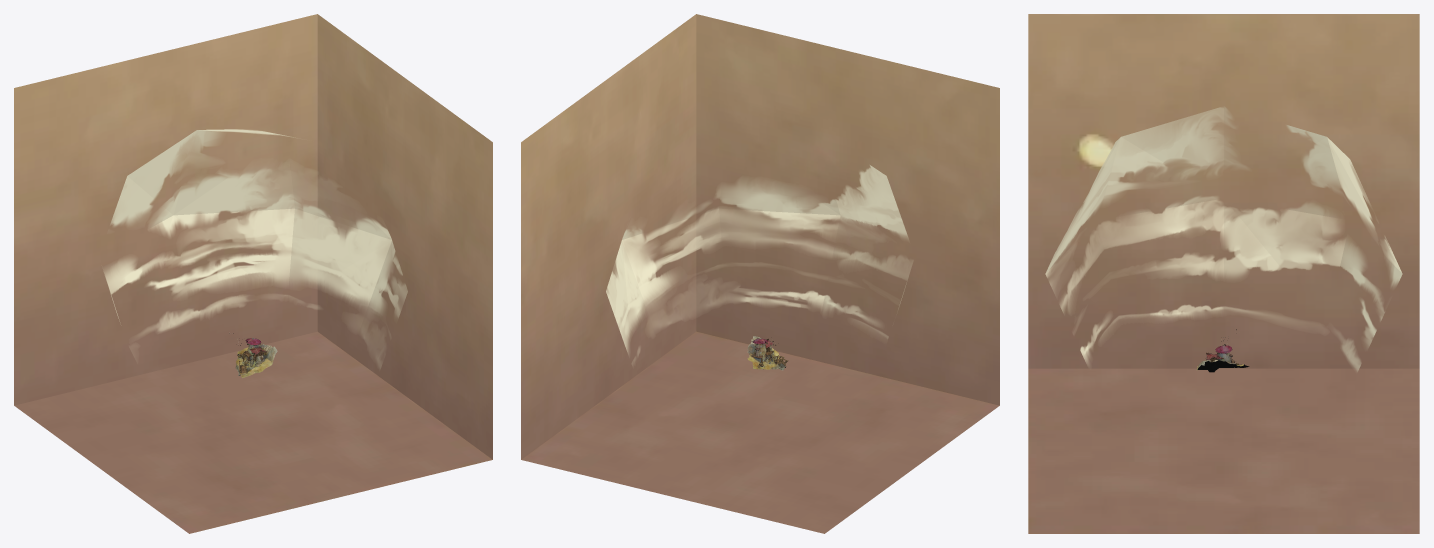
File: tower-transformed.glb
3 views of the same model, side by side, from view 1: azimuth 30°, elevation 25°; view 2: azimuth 150°, elevation 25°; view 3: azimuth 270°, elevation 25° (orthographic). The views are drawn at different scales.
Parts seen in each view (by area): view 1: skybox, clouds, wm; view 2: skybox, clouds, wm; view 3: skybox, clouds.
Part boxes in pixels (x1,y1,x2,y2): skybox: [14, 14, 492, 533]; clouds: [103, 129, 407, 368]; wm: [229, 333, 277, 377]; skybox: [521, 14, 999, 533]; clouds: [606, 165, 912, 364]; wm: [747, 336, 787, 370]; skybox: [1028, 14, 1419, 533]; clouds: [1045, 107, 1402, 371].
Size of the model in its own units: 66.34 by 66.34 by 66.34.
5 materials, 4 textured.
